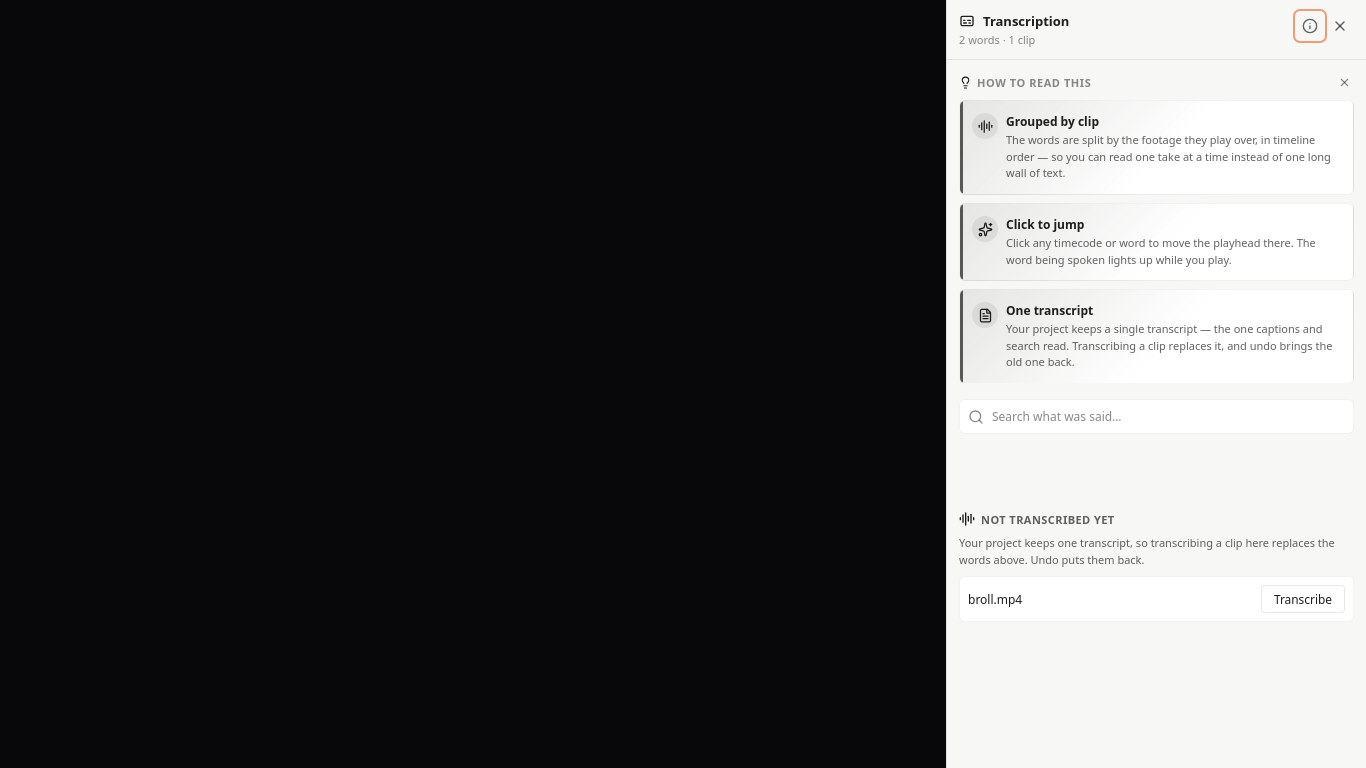
Test: TranscriptionPanel › says transcription needs the desktop app when there is no trusted host
The width and height of the screenshot is (1366, 768).
Click the button "Transcribe": x=1303, y=599 x1=1261 y1=585 x2=1345 y2=613
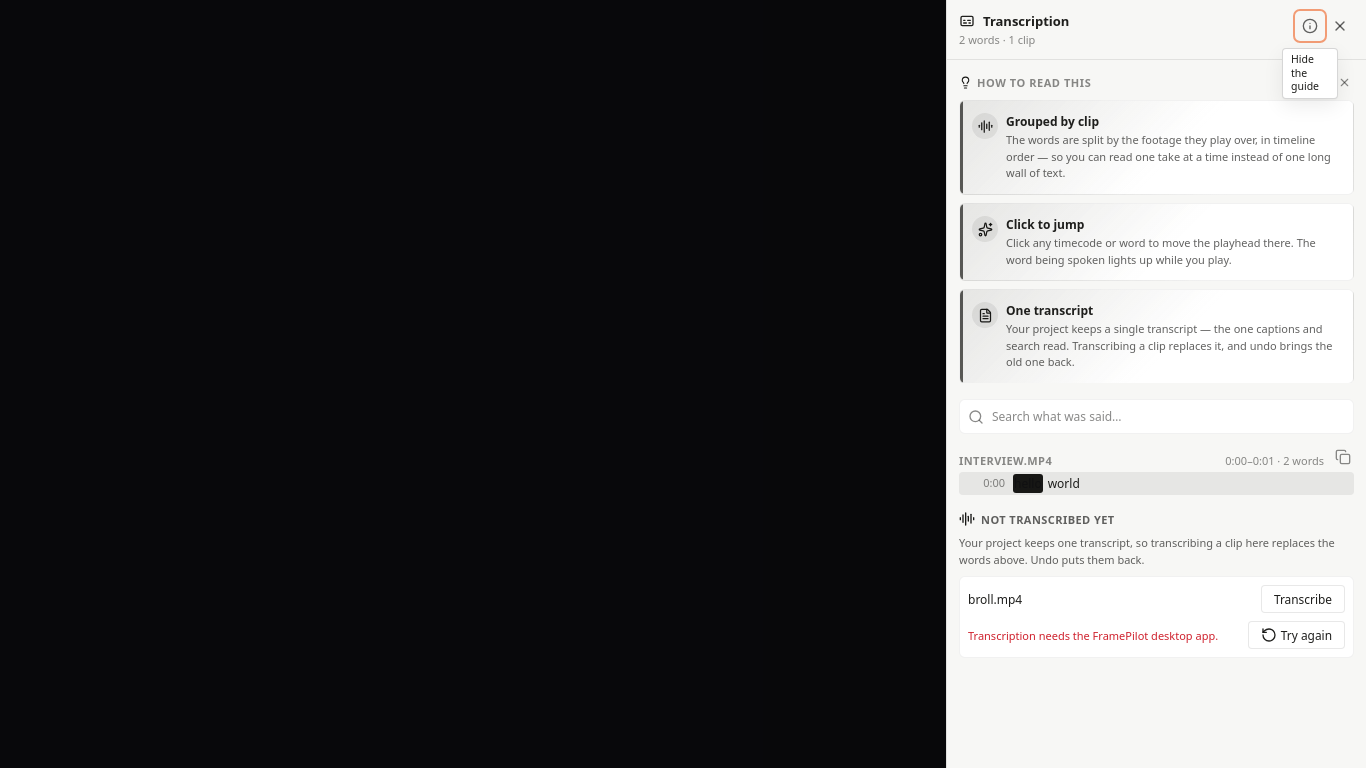
Check: the message shows "desktop app", box x1=968 y1=628 x2=1218 y2=643
